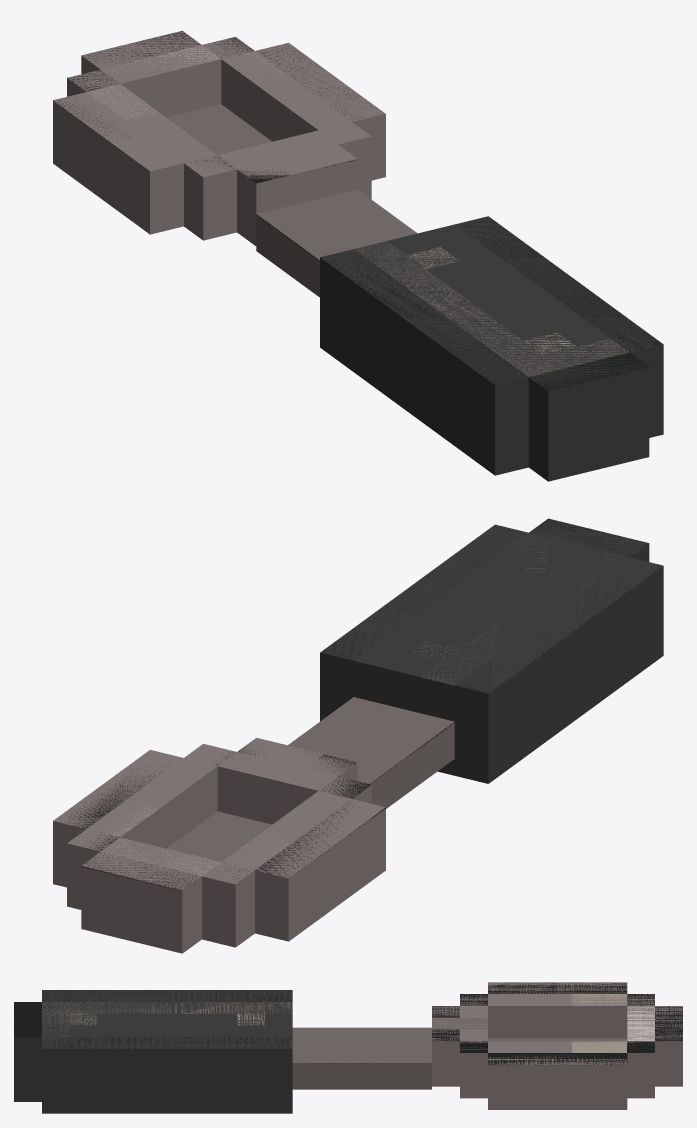
The model's file is CMU3DLooseSpoon.glb.
The picture shows the model from 3 angles, top to bottom: view 1: azimuth 30°, elevation 25°; view 2: azimuth 150°, elevation 25°; view 3: azimuth 270°, elevation 25°; orthographic projection. The views are drawn at different scales.
Parts seen in each view (by area): view 1: thick riveted grip solid 1, thick riveted grip original surface, thick riveted grip solid 2, raised bowl rim solid 4, raised bowl rim solid 3, narrow continuous neck solid 1, raised bowl rim solid 6, raised bowl rim solid 2, raised bowl rim solid 1, raised bowl rim original surface, raised bowl rim solid 5, recessed spoon bowl solid 1; view 2: thick riveted grip solid 1, raised bowl rim solid 1, raised bowl rim solid 4, narrow continuous neck solid 1, raised bowl rim solid 3, raised bowl rim solid 2, raised bowl rim solid 6, raised bowl rim original surface, raised bowl rim solid 5, thick riveted grip original surface, recessed spoon bowl solid 1, thick riveted grip solid 2; view 3: thick riveted grip solid 1, raised bowl rim original surface, thick riveted grip original surface, narrow continuous neck solid 1, raised bowl rim solid 5, raised bowl rim solid 2, raised bowl rim solid 3, raised bowl rim solid 6, raised bowl rim solid 1, thick riveted grip solid 2, raised bowl rim solid 4, recessed spoon bowl solid 1.
Boxes of the visible parts, box(x1,y1,x2,y2) form: thick riveted grip solid 1: box(320, 216, 663, 475); thick riveted grip original surface: box(324, 216, 661, 390); thick riveted grip solid 2: box(528, 353, 649, 481); raised bowl rim solid 4: box(53, 92, 183, 234); raised bowl rim solid 3: box(202, 37, 371, 199); narrow continuous neck solid 1: box(256, 189, 417, 297); raised bowl rim solid 6: box(218, 130, 357, 245); raised bowl rim solid 2: box(67, 69, 236, 240); raised bowl rim solid 1: box(81, 31, 221, 117); raised bowl rim original surface: box(54, 31, 384, 183); raised bowl rim solid 5: box(255, 42, 385, 180); recessed spoon bowl solid 1: box(167, 104, 271, 154); thick riveted grip solid 1: box(320, 524, 663, 783); raised bowl rim solid 1: box(81, 837, 220, 953); raised bowl rim solid 4: box(255, 799, 385, 941); narrow continuous neck solid 1: box(288, 697, 454, 808); raised bowl rim solid 3: box(67, 744, 236, 909); raised bowl rim solid 2: box(202, 777, 371, 947); raised bowl rim solid 6: box(217, 737, 357, 824); raised bowl rim original surface: box(61, 742, 385, 890); raised bowl rim solid 5: box(53, 750, 183, 887); thick riveted grip original surface: box(321, 519, 659, 693); recessed spoon bowl solid 1: box(167, 811, 271, 861); thick riveted grip solid 2: box(529, 518, 649, 561); thick riveted grip solid 1: box(42, 990, 292, 1113); raised bowl rim original surface: box(432, 982, 682, 1065); thick riveted grip original surface: box(14, 990, 292, 1049); narrow continuous neck solid 1: box(292, 1027, 431, 1089); raised bowl rim solid 5: box(488, 1054, 627, 1109); raised bowl rim solid 2: box(460, 994, 654, 1038); raised bowl rim solid 3: box(460, 1041, 654, 1098); raised bowl rim solid 6: box(432, 1006, 487, 1086); raised bowl rim solid 1: box(627, 1006, 682, 1086); thick riveted grip solid 2: box(14, 1002, 41, 1101); raised bowl rim solid 4: box(488, 982, 627, 993); recessed spoon bowl solid 1: box(488, 1038, 627, 1041).
Bounding box in the file's own units: 0.2188 × 0.08 × 0.75.
7 materials, 4 textured.
